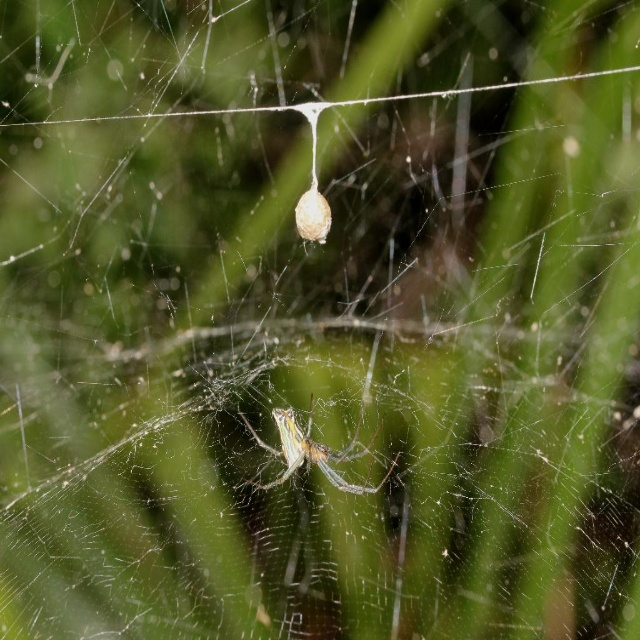Spider: (237, 393, 400, 493)
